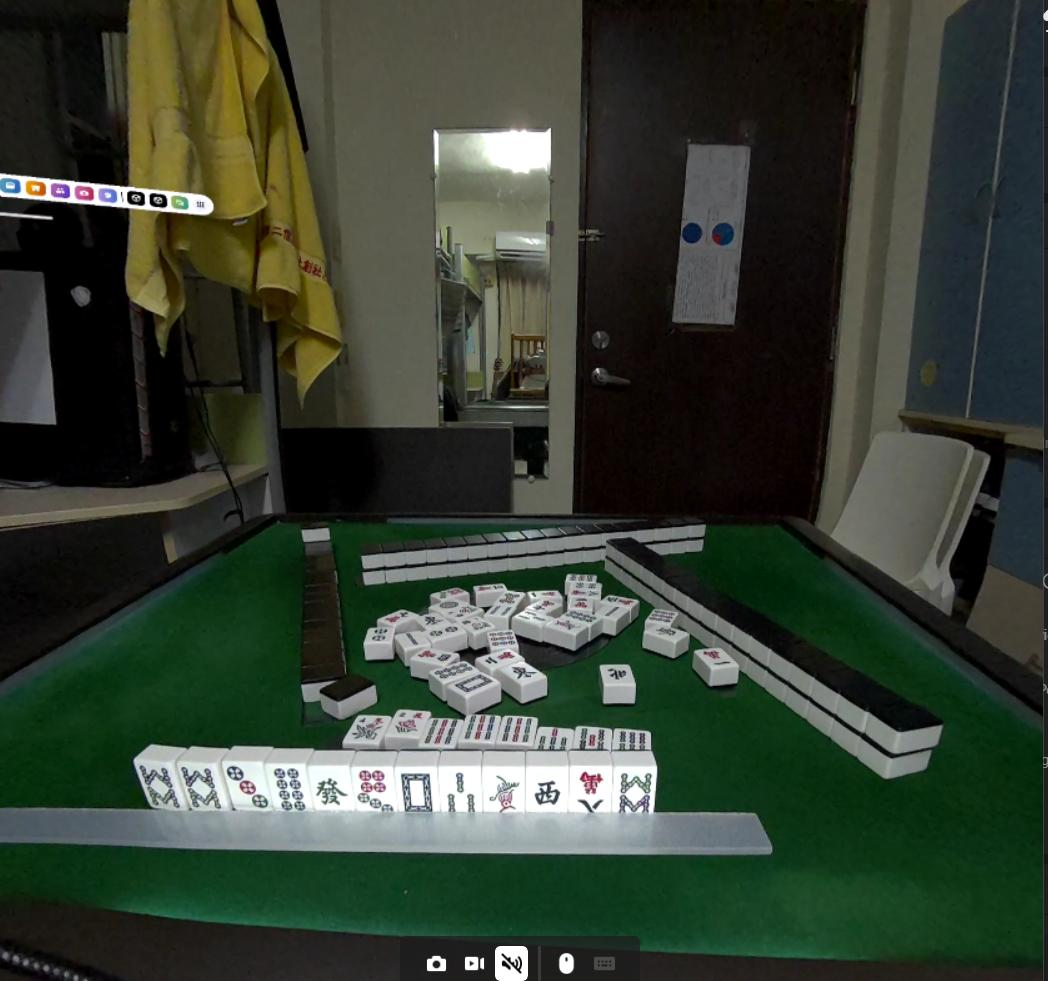mahjong: (430, 764, 485, 818), (217, 755, 269, 812), (347, 764, 401, 817), (173, 750, 219, 810), (135, 760, 186, 809), (393, 762, 437, 813), (570, 765, 609, 820), (522, 765, 567, 810), (615, 767, 655, 817), (483, 762, 522, 813), (273, 762, 311, 814), (310, 769, 350, 816)
